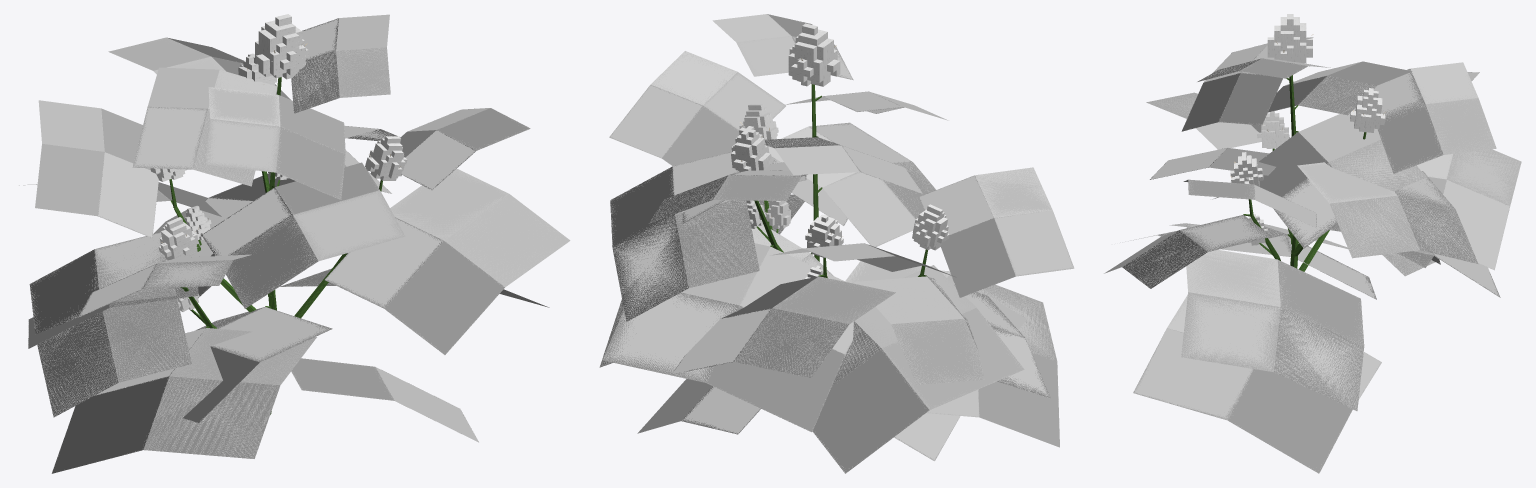
Rendered from plant_3_0_1.obj.
3 views of the same model, side by side, from view 1: azimuth 30°, elevation 25°; view 2: azimuth 150°, elevation 25°; view 3: azimuth 270°, elevation 25° (orthographic). The views are drawn at different scales.
Visible parts, largest first — view 1: model; view 2: model; view 3: model.
Boxes of the visible parts, <box> form: model: <box>19,14,570,473</box>; model: <box>599,14,1074,473</box>; model: <box>1104,14,1521,473</box>.
Bounding box in the file's own units: 1.08 × 1.03 × 1.
